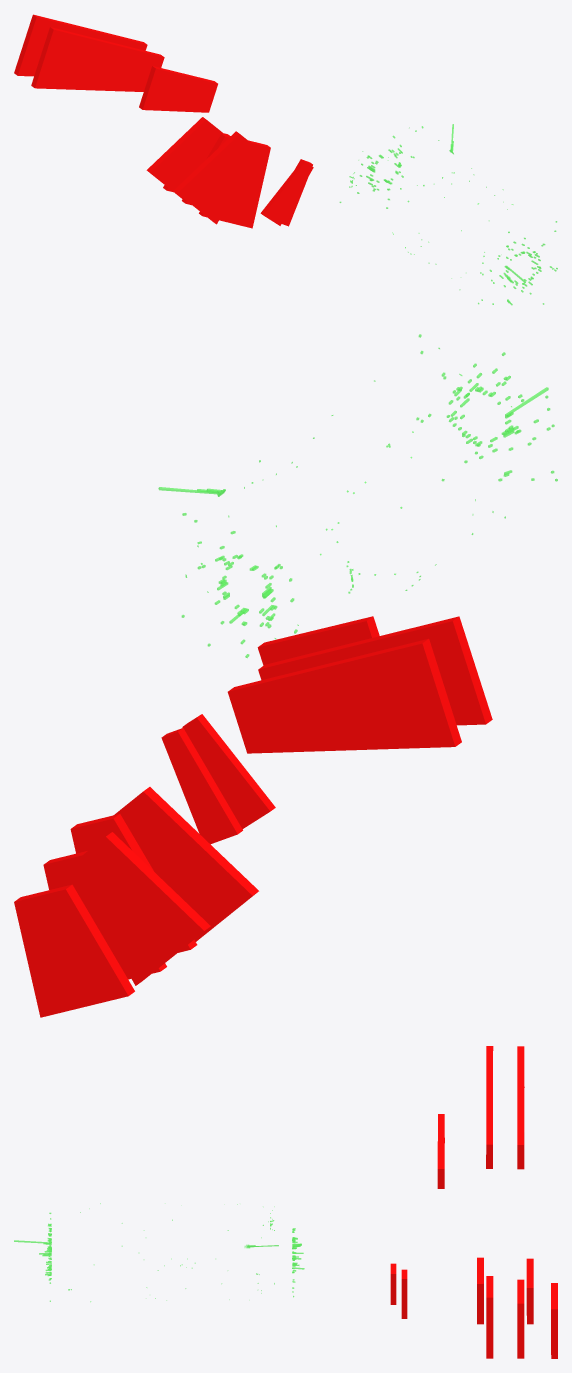
The picture shows the model from 3 angles, top to bottom: view 1: azimuth 30°, elevation 25°; view 2: azimuth 150°, elevation 25°; view 3: azimuth 270°, elevation 25°; orthographic projection. The views are drawn at different scales.
Parts seen in each view (by area): view 1: MuonChambers_V1, EERecHits_V2; view 2: MuonChambers_V1, EERecHits_V2; view 3: MuonChambers_V1, EERecHits_V2.
Part boxes in pixels (left/top/right/bottom): MuonChambers_V1: left=14, top=14, right=313, bottom=228; EERecHits_V2: left=339, top=126, right=557, bottom=305; MuonChambers_V1: left=14, top=616, right=492, bottom=1017; EERecHits_V2: left=181, top=334, right=557, bottom=658; MuonChambers_V1: left=390, top=1046, right=557, bottom=1358; EERecHits_V2: left=14, top=1212, right=304, bottom=1301.
Size of what is drawn, in the model's own units: 8.44 by 6.56 by 14.39.
